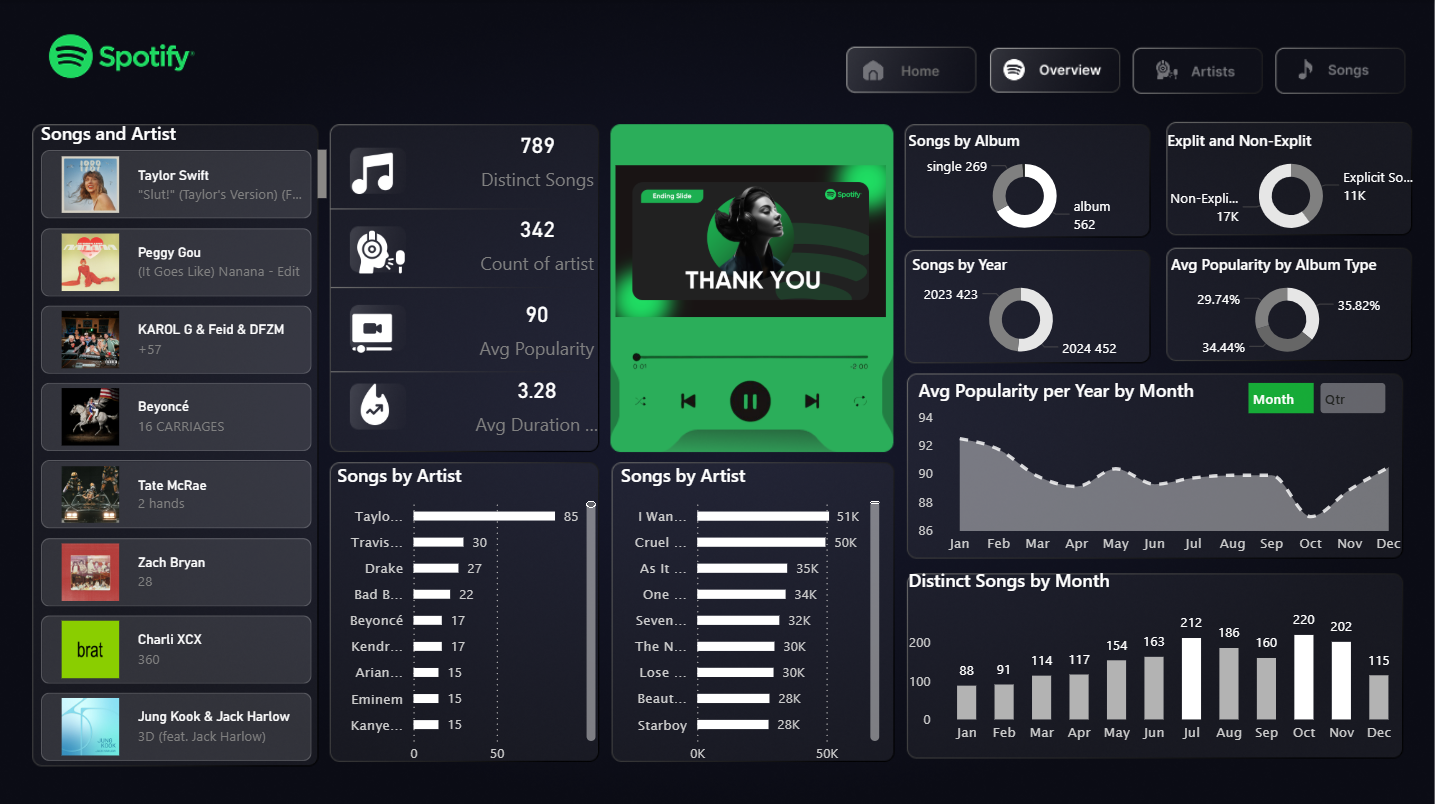

Layout of this report page (visuals, bound fields, positions):
{"tool":"powerbi","page":{"name":"Page 1","canvas":[1280,720],"ordinal":0},"visuals":[{"type":"clusteredBarChart","title":"Songs by Artist","fields":{"Y":["_Measures.Distinct Songs"],"Category":["Top-50-World.artist"]},"box":[297.8,411.7,240.1,277.2],"z":0},{"type":"clusteredBarChart","title":"Songs by Artist","fields":{"Y":["Sum(Top-50-World.popularity)"],"Category":["Top-50-World.song"]},"box":[550.3,411.7,240.1,277.2],"z":1000},{"type":"areaChart","fields":{"Category":["Top-50-World.Month"],"Y":["_Measures.Avg Popularity per Year"]},"box":[814.3,336.6,442.8,168.9],"z":2000},{"type":"advancedSlicerVisual","fields":{"Values":["Parameter.Parameter"]},"box":[1108.7,336.6,133.9,37.4],"z":3000},{"type":"donutChart","title":"Songs by Album","fields":{"Y":["_Measures.Distinct Songs"],"Category":["Top-50-World.album_type"]},"box":[805.9,115.8,217.2,100.1],"z":4000},{"type":"donutChart","title":"Explit and Non-Explit","fields":{"Y":["_Measures.Explicit Songs","_Measures.Non-Explicit Songs"]},"box":[1036.3,115.8,230.4,100.1],"z":5000},{"type":"donutChart","title":"Songs by Year","fields":{"Y":["_Measures.Distinct Songs"],"Category":["Top-50-World.Year"]},"box":[809.5,225.6,203.9,100.1],"z":6000},{"type":"donutChart","title":"Avg Popularity by Album Type","fields":{"Y":["_Measures.Avg Popularity"],"Category":["Top-50-World.album_type"]},"box":[1040,225.6,217.2,100.1],"z":7000},{"type":"clusteredColumnChart","fields":{"Category":["Top-50-World.Month"],"Y":["_Measures.Distinct Songs"]},"box":[806.1,505.6,451.5,168.5],"z":8000},{"type":"card","fields":{"Values":["_Measures.Distinct Songs"]},"box":[420.8,105.5,119.5,69.9],"z":9000},{"type":"card","fields":{"Values":["Count(Top-50-World.artist)"]},"box":[420.8,180.5,119.5,69.9],"z":10000},{"type":"card","fields":{"Values":["_Measures.Avg Popularity"]},"box":[419.5,255.5,120.8,69.9],"z":11000},{"type":"card","fields":{"Values":["_Measures.Avg Duration Minutes"]},"box":[419.5,324.2,120.8,69.9],"z":12000},{"type":"image","box":[315.3,342,52.1,36.9],"z":13000},{"type":"image","box":[315.3,203.4,52.1,42],"z":14000},{"type":"image","box":[315.3,133.5,36.9,42],"z":15000},{"type":"image","box":[307.7,275.9,52.1,42],"z":16000},{"type":"advancedSlicerVisual","title":"Songs and Artist","fields":{"Values":["Top-50-World.song"]},"box":[33.1,106.8,264.4,575.9],"z":17000},{"type":"image","box":[550,87.4,240.7,254.2],"z":18000},{"type":"image","box":[543.3,246.1,252.8,191],"z":19000}]}

Visuals, with their boxes in screenshot pixels (x1, y1, x2, y2), scaled from the page's 1280x720 canvas onto the 1435x804 screenshot:
"Songs by Artist" clusteredBarChart: [left=334, top=460, right=603, bottom=769]
"Songs by Artist" clusteredBarChart: [left=617, top=460, right=886, bottom=769]
areaChart - Top-50-World.Month x _Measures.Avg Popularity per Year: [left=913, top=376, right=1409, bottom=564]
advancedSlicerVisual - Parameter.Parameter: [left=1243, top=376, right=1393, bottom=418]
"Songs by Album" donutChart: [left=903, top=129, right=1147, bottom=241]
"Explit and Non-Explit" donutChart: [left=1162, top=129, right=1420, bottom=241]
"Songs by Year" donutChart: [left=908, top=252, right=1136, bottom=364]
"Avg Popularity by Album Type" donutChart: [left=1166, top=252, right=1409, bottom=364]
clusteredColumnChart - Top-50-World.Month x _Measures.Distinct Songs: [left=904, top=565, right=1410, bottom=753]
card - _Measures.Distinct Songs: [left=472, top=118, right=606, bottom=196]
card - Count(Top-50-World.artist): [left=472, top=202, right=606, bottom=280]
card - _Measures.Avg Popularity: [left=470, top=285, right=606, bottom=363]
card - _Measures.Avg Duration Minutes: [left=470, top=362, right=606, bottom=440]
image: [left=353, top=382, right=412, bottom=423]
image: [left=353, top=227, right=412, bottom=274]
image: [left=353, top=149, right=395, bottom=196]
image: [left=345, top=308, right=403, bottom=355]
"Songs and Artist" advancedSlicerVisual: [left=37, top=119, right=334, bottom=762]
image: [left=617, top=98, right=886, bottom=381]
image: [left=609, top=275, right=893, bottom=488]
